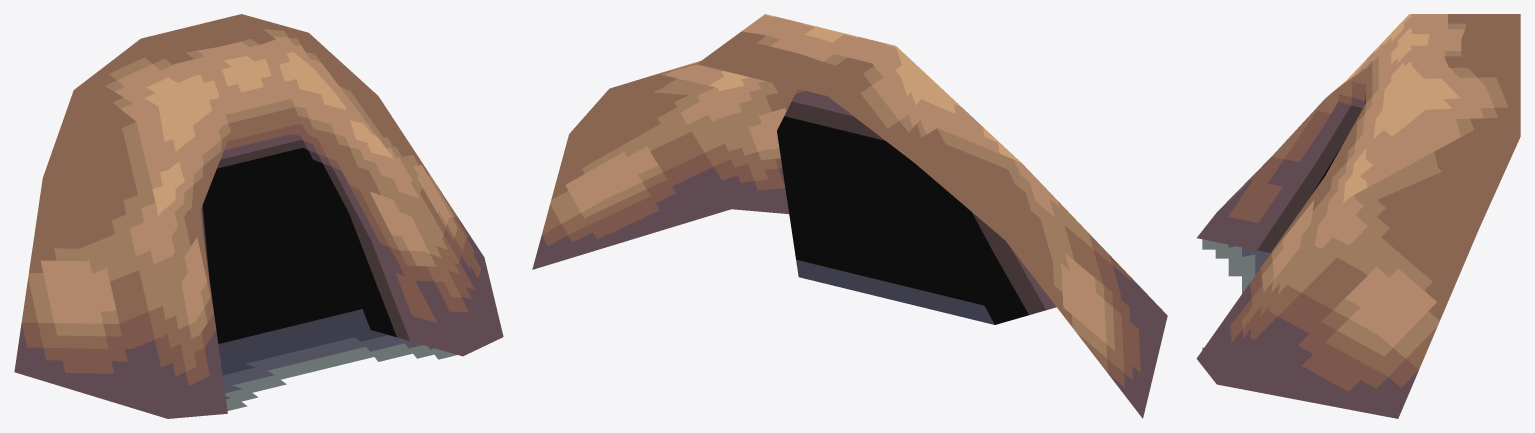
The model's file is cavern-entrance.glb.
The picture shows the model from 3 angles, left to right: view 1: azimuth 30°, elevation 25°; view 2: azimuth 150°, elevation 25°; view 3: azimuth 270°, elevation 25°; orthographic projection. The views are drawn at different scales.
Visible parts, largest first — view 1: map20_04c.001; view 2: map20_04c.001; view 3: map20_04c.001.
Part boxes in pixels (left/top/right/bottom): map20_04c.001: left=14, top=14, right=503, bottom=418; map20_04c.001: left=532, top=14, right=1167, bottom=418; map20_04c.001: left=1196, top=14, right=1520, bottom=418.
Size of the model in its own units: 56 by 28 by 31.8.
Materials: 1 (1 with a texture image).
